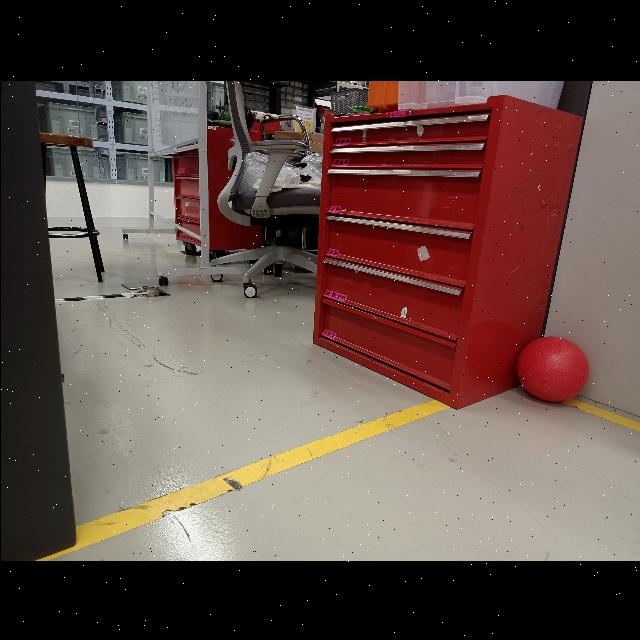R: (517, 334, 587, 404)
